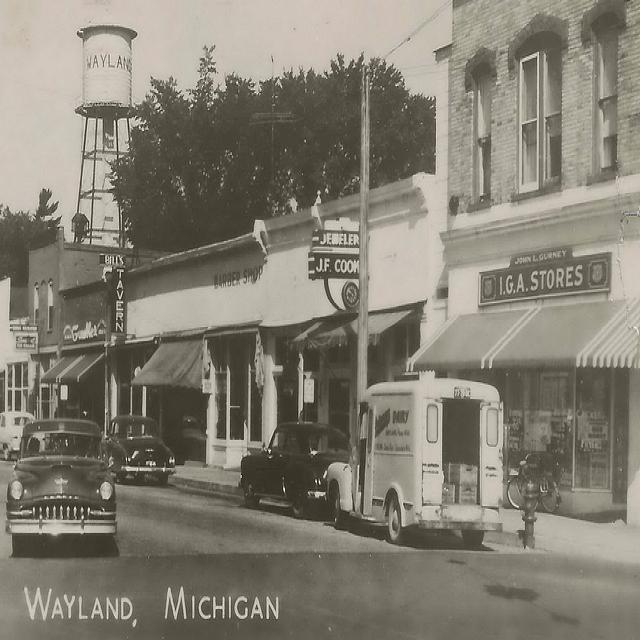Vehicle: (328, 366, 502, 546), (10, 412, 114, 540), (242, 425, 353, 519), (106, 411, 180, 486), (0, 410, 32, 462)
